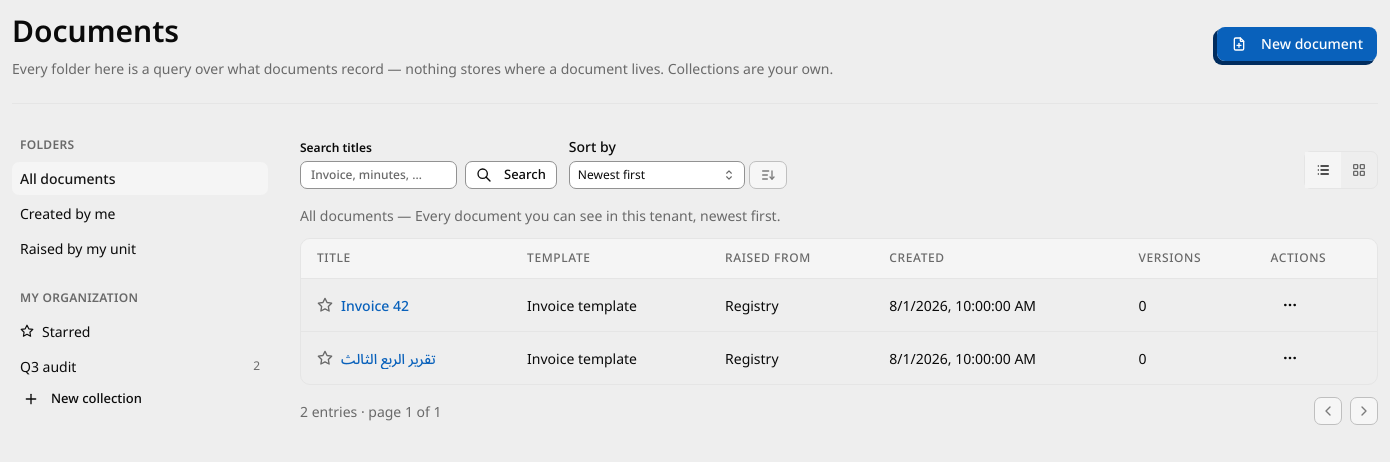
it: managing a collection › offers removal from a collection only while one is open
expect the link "Invoice 42" is shown: met, box [341,294,409,316]
Click the button named "Document actions" in the row of "Invoice 42" at (1290, 305), box [1270,291,1308,319]
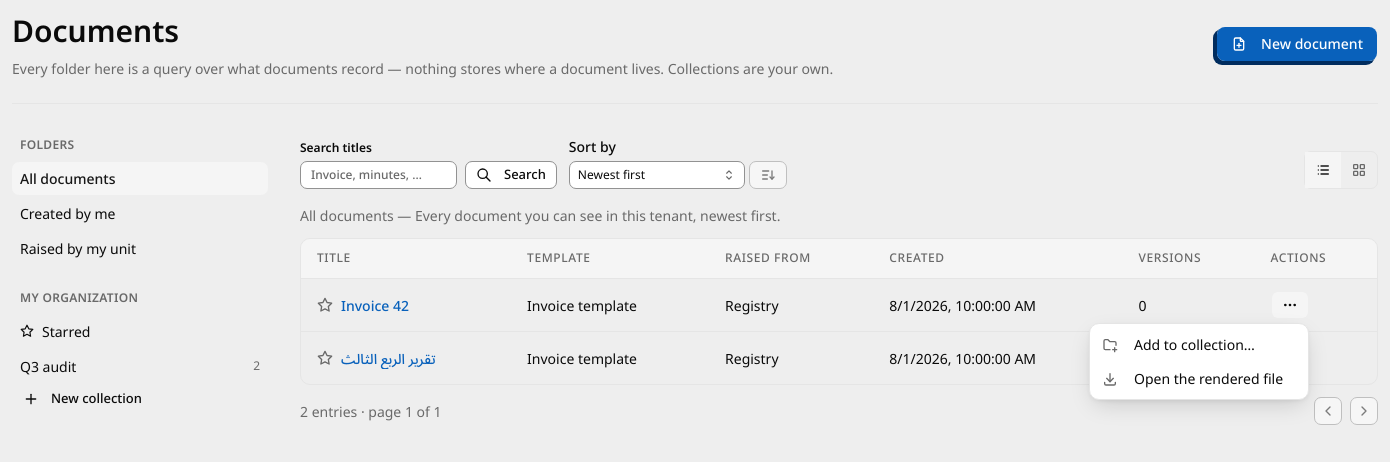
expect the menu item "Remove from this collection" is not shown: met
Press Escape
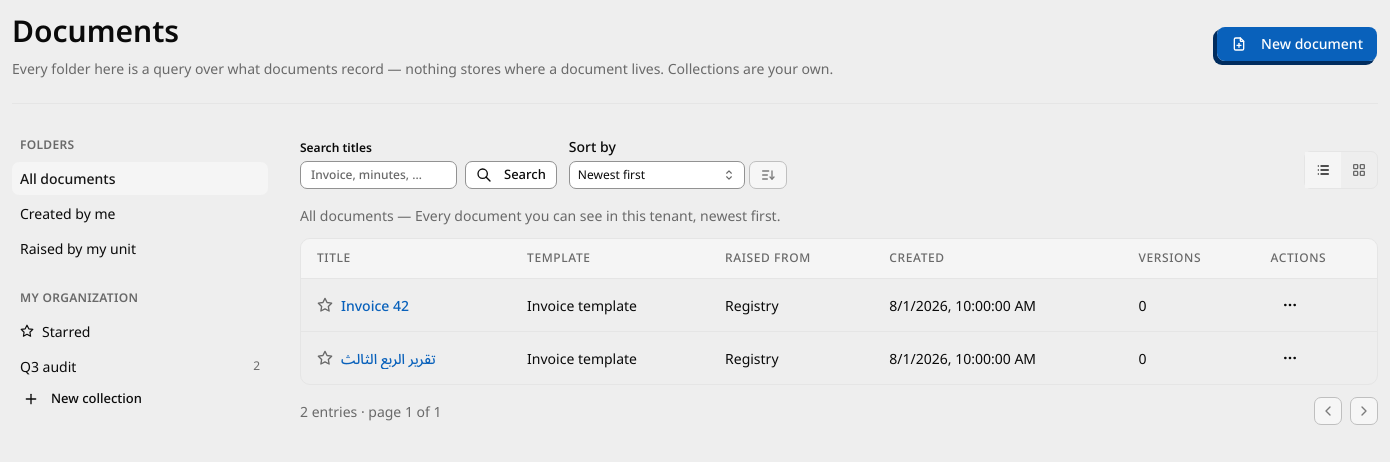
Click the button "Q3 audit 2" at (140, 366), box [12,350,268,382]
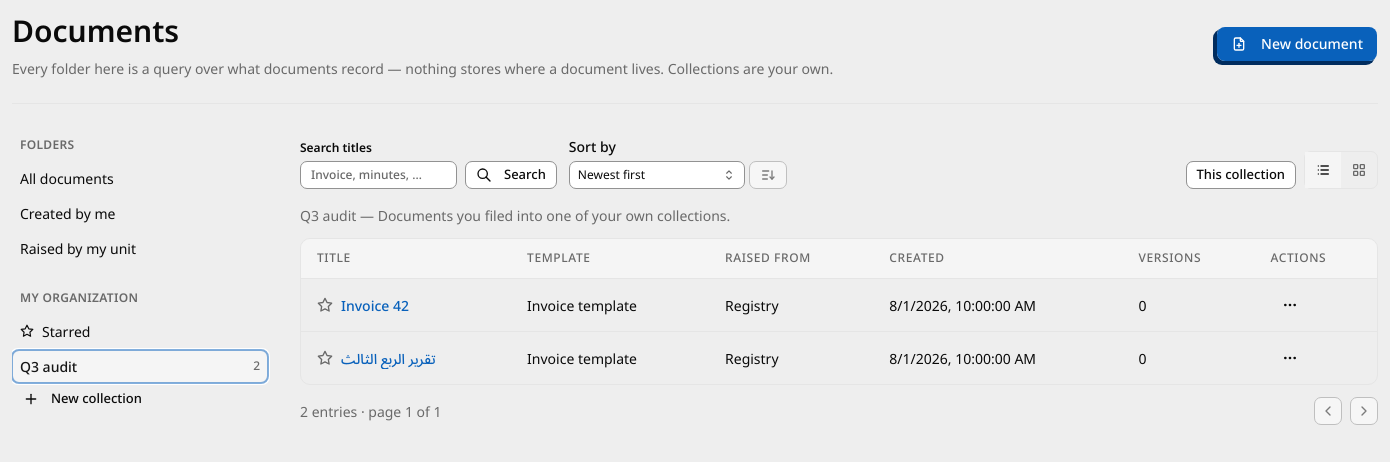
Click the button named "Document actions" in the row of "Invoice 42" at (1290, 305), box [1270,291,1308,319]
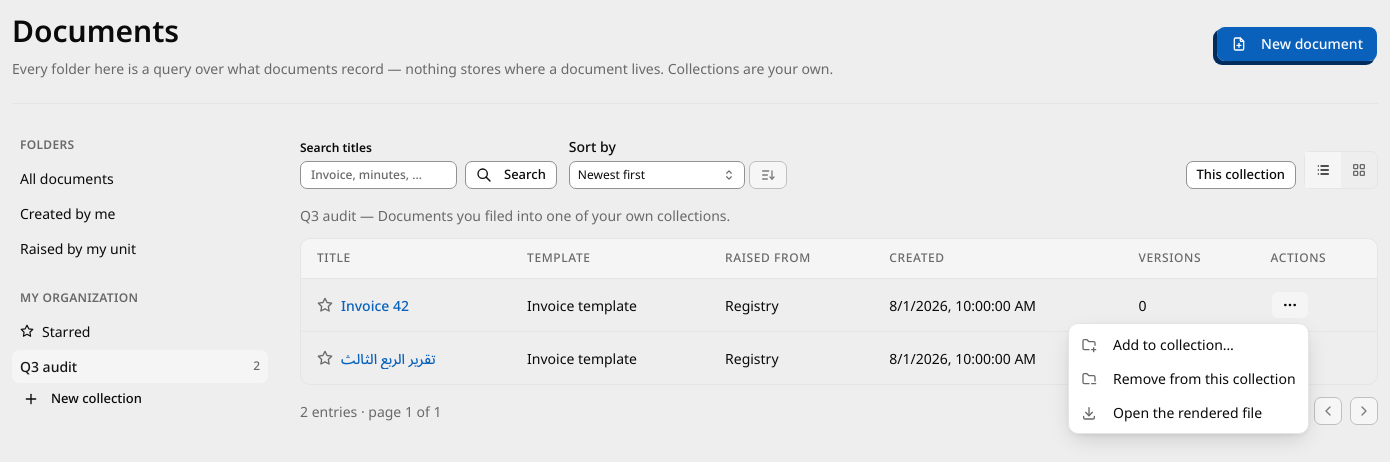
expect the menu item "Remove from this collection" is shown: met, box [1081,369,1296,388]
